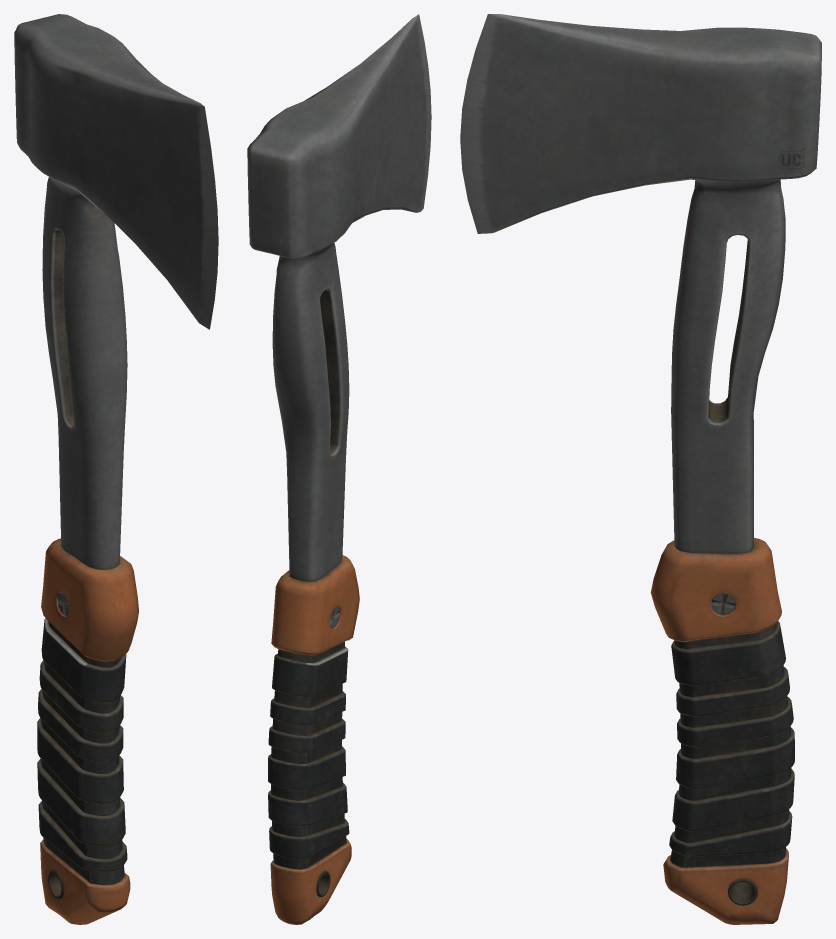
Rendered from hatchet.glb.
The picture shows the model from 3 angles, left to right: view 1: azimuth 30°, elevation 25°; view 2: azimuth 150°, elevation 25°; view 3: azimuth 270°, elevation 25°; orthographic projection. The views are drawn at different scales.
Parts seen in each view (by area): view 1: hatchet; view 2: hatchet; view 3: hatchet.
Boxes of the visible parts, x1,y1,x2,y2 form: hatchet: (14, 14, 218, 924); hatchet: (247, 14, 431, 924); hatchet: (460, 14, 821, 924).
Bounding box in the file's own units: 0.026 × 0.2887 × 0.1043.
Materials: 1 (1 with a texture image).
